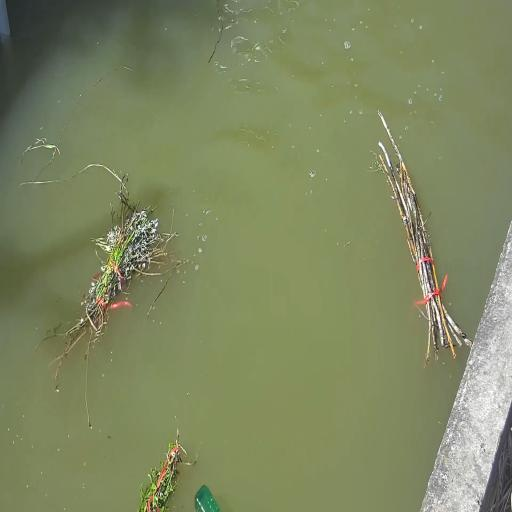plastic: (194, 482, 220, 512)
twig: (374, 110, 474, 365), (52, 195, 164, 351), (131, 438, 186, 512)
